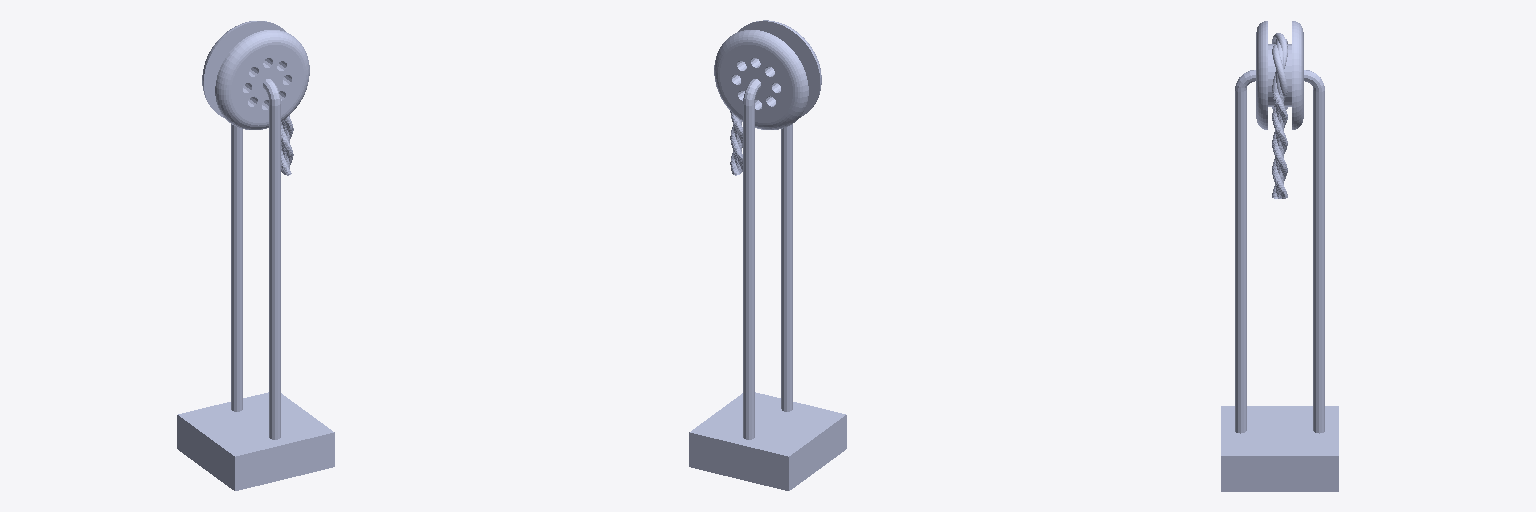
URDF robot description (solidworks2ros_try15):
<?xml version="1.0" encoding="utf-8"?>
<!-- This URDF was automatically created by SolidWorks to URDF Exporter! Originally created by [author] ([email redacted]) 
     Commit Version: 1.6.0-4-g7f85cfe  Build Version: 1.6.7995.38578
     For more information, please see http://wiki.ros.org/sw_urdf_exporter -->
<robot name="solidworks2ros_try15">

  <link name="dummy"> 
  </link>

  <joint name="dummy_joint" type="fixed">
     <parent link="dummy"/>
     <child link="base_link"/>
  </joint>

  <link name="base_link">
    <inertial>
      <origin
        xyz="7.6537E-18 1.5448E-17 0.17209"
        rpy="0 0 0" />
      <mass
        value="21.571" />
      <inertia
        ixx="2.2692"
        ixy="-3.3662E-17"
        ixz="4.5516E-17"
        iyy="2.2218"
        iyz="-3.4003E-16"
        izz="0.49397" />
    </inertial>
    <visual>
      <origin
        xyz="0 0 0"
        rpy="0 0 0" />
      <geometry>
        <mesh
          filename="package://solidworks2ros_try15/meshes/base_link.STL" />
      </geometry>
      <material
        name="">
        <color
          rgba="0.79216 0.81961 0.93333 1" />
      </material>
    </visual>
    <collision>
      <origin
        xyz="0 0 0"
        rpy="0 0 0" />
      <geometry>
        <mesh
          filename="package://solidworks2ros_try15/meshes/base_link.STL" />
      </geometry>
    </collision>
  </link>

  <link name="link_1">
    <inertial>
      <origin
        xyz="-0.0017596 2.8589E-08 0.0017597"
        rpy="0 0 0" />
      <mass
        value="8.4177" />
      <inertia
        ixx="0.076973"
        ixy="-3.4016E-06"
        ixz="-0.0012255"
        iyy="0.11232"
        iyz="-3.3985E-06"
        izz="0.076973" />
    </inertial>
    <visual>
      <origin
        xyz="0 0 0"
        rpy="0 0 0" />
      <geometry>
        <mesh
          filename="package://solidworks2ros_try15/meshes/link_1.STL" />
      </geometry>
      <material
        name="">
        <color
          rgba="0.79216 0.81961 0.93333 1" />
      </material>
    </visual>
    <collision>
      <origin
        xyz="0 0 0"
        rpy="0 0 0" />
      <geometry>
        <mesh
          filename="package://solidworks2ros_try15/meshes/link_1.STL" />
      </geometry>
    </collision>
  </link>

  <joint name="joint_1"
    type="revolute">
    <origin
      xyz="0 0 1.397"
      rpy="0 0 0" />
    <parent
      link="base_link" />
    <child
      link="link_1" />
    <axis
      xyz="0 1 0" />
    <limit
      lower="0"
      upper="50"
      effort="100"
      velocity="0.1" />
  </joint>

  <link name="link_2">
    <inertial>
      <origin
        xyz="1.3878E-17 -3.0921E-17 -0.19049"
        rpy="0 0 0" />
      <mass
        value="0.42802" />
      <inertia
        ixx="0.0052275"
        ixy="1.0603E-08"
        ixz="1.7867E-18"
        iyy="0.0052275"
        iyz="-8.7102E-19"
        izz="9.7461E-05" />
    </inertial>
    <visual>
      <origin
        xyz="0 0 0"
        rpy="0 0 0" />
      <geometry>
        <mesh
          filename="package://solidworks2ros_try15/meshes/link_2.STL" />
      </geometry>
      <material
        name="">
        <color
          rgba="0.79216 0.81961 0.93333 1" />
      </material>
    </visual>
    <collision>
      <origin
        xyz="0 0 0"
        rpy="0 0 0" />
      <geometry>
        <mesh
          filename="package://solidworks2ros_try15/meshes/link_2.STL" />
      </geometry>
    </collision>
  </link>

  <joint name="joint_2"
    type="prismatic">
    <origin
      xyz="0.1143 0 1.397"
      rpy="0 0 0" />
    <parent
      link="base_link" />
    <child
      link="link_2" />
    <axis
      xyz="0 0 -1" />
    <limit
      lower="0"
      upper="2"
      effort="100"
      velocity="0.1" />
  </joint>

  <link name="link_3">
    <inertial>
      <origin
        xyz="1.3878E-17 -3.0921E-17 -0.19049"
        rpy="0 0 0" />
      <mass
        value="0.42802" />
      <inertia
        ixx="0.0052275"
        ixy="1.0603E-08"
        ixz="1.7867E-18"
        iyy="0.0052275"
        iyz="-8.7102E-19"
        izz="9.7461E-05" />
    </inertial>
    <visual>
      <origin
        xyz="0 0 0"
        rpy="0 0 0" />
      <geometry>
        <mesh
          filename="package://solidworks2ros_try15/meshes/link_2.STL" />
      </geometry>
      <material
        name="">
        <color
          rgba="0.79216 0.81961 0.93333 1" />
      </material>
    </visual>
    <collision>
      <origin
        xyz="0 0 0"
        rpy="0 0 0" />
      <geometry>
        <mesh
          filename="package://solidworks2ros_try15/meshes/link_2.STL" />
      </geometry>
    </collision>
  </link>

  <joint name="joint_3"
    type="prismatic">
    <origin
      xyz="0 0 0"
      rpy="0 0 0" />
    <parent
      link="link_2" />
    <child
      link="link_3" />
    <axis
      xyz="0 0 -1" />
    <limit
      lower="0"
      upper="2"
      effort="100"
      velocity="0.1" />
  </joint>

    <link name="link_4">
    <inertial>
      <origin
        xyz="1.3878E-17 -3.0921E-17 -0.19049"
        rpy="0 0 0" />
      <mass
        value="0.42802" />
      <inertia
        ixx="0.0052275"
        ixy="1.0603E-08"
        ixz="1.7867E-18"
        iyy="0.0052275"
        iyz="-8.7102E-19"
        izz="9.7461E-05" />
    </inertial>
    <visual>
      <origin
        xyz="0 0 0"
        rpy="0 0 0" />
      <geometry>
        <mesh
          filename="package://solidworks2ros_try15/meshes/link_2.STL" />
      </geometry>
      <material
        name="">
        <color
          rgba="0.79216 0.81961 0.93333 1" />
      </material>
    </visual>
    <collision>
      <origin
        xyz="0 0 0"
        rpy="0 0 0" />
      <geometry>
        <mesh
          filename="package://solidworks2ros_try15/meshes/link_2.STL" />
      </geometry>
    </collision>
  </link>

  <joint name="joint_4"
    type="prismatic">
    <origin
      xyz="0 0 0"
      rpy="0 0 0" />
    <parent
      link="link_3" />
    <child
      link="link_4" />
    <axis
      xyz="0 0 -1" />
    <limit
      lower="0"
      upper="2"
      effort="100"
      velocity="0.1" />
  </joint>

  <!-- Gazebo position controller -->
  <transmission name ="trans_1">
    <type>transmission_interface/SimpleTransmission</type>
    <joint name="joint_1">
        <hardwareInterface>hardware_interface/PositionJointInterface</hardwareInterface>
    </joint>
    <actuator name="motor_1">
        <hardwareInterface>hardware_interface/PositionJointInterface</hardwareInterface>
        <mechanicalReduction>1</mechanicalReduction>
    </actuator>
  </transmission>

  <transmission name ="trans_2">
    <type>transmission_interface/SimpleTransmission</type>
    <joint name="joint_2">
        <hardwareInterface>hardware_interface/PositionJointInterface</hardwareInterface>
    </joint>
    <actuator name="motor_2">
        <hardwareInterface>hardware_interface/PositionJointInterface</hardwareInterface>
        <mechanicalReduction>1</mechanicalReduction>
    </actuator>
  </transmission>

  <transmission name ="trans_3">
    <type>transmission_interface/SimpleTransmission</type>
    <joint name="joint_3">
        <hardwareInterface>hardware_interface/PositionJointInterface</hardwareInterface>
    </joint>
    <actuator name="motor_3">
        <hardwareInterface>hardware_interface/PositionJointInterface</hardwareInterface>
        <mechanicalReduction>1</mechanicalReduction>
    </actuator>
  </transmission>

  <transmission name ="trans_4">
    <type>transmission_interface/SimpleTransmission</type>
    <joint name="joint_4">
        <hardwareInterface>hardware_interface/PositionJointInterface</hardwareInterface>
    </joint>
    <actuator name="motor_4">
        <hardwareInterface>hardware_interface/PositionJointInterface</hardwareInterface>
        <mechanicalReduction>1</mechanicalReduction>
    </actuator>
  </transmission>

  <!-- Gazebo plugin for controlling the rope -->
  <gazebo>
    <plugin name="ros_control" filename="libgazebo_ros_control.so">
    </plugin>
  </gazebo>

</robot>

--- Facts derived from the render (not from the file) ---
3 views of the same robot in one strip: view 1: azimuth 30°, elevation 25°; view 2: azimuth 150°, elevation 25°; view 3: azimuth 270°, elevation 25° (orthographic).
Robot: solidworks2ros_try15 — 6 links, 5 joints (1 revolute, 3 prismatic, 1 fixed); root link dummy; default pose: all joints at 0.
Links seen in each view (by area): view 1: base_link, link_1, link_2; view 2: base_link, link_1, link_2; view 3: base_link, link_1, link_2.
Link boxes in pixels (box(x1,y1,x2,y2)): base_link: box(177, 79, 334, 490); link_1: box(202, 21, 309, 129); link_2: box(281, 115, 293, 175); base_link: box(689, 79, 846, 490); link_1: box(714, 20, 821, 129); link_2: box(730, 111, 742, 175); base_link: box(1221, 70, 1338, 491); link_1: box(1256, 21, 1303, 129); link_2: box(1272, 91, 1287, 198).
Size in the robot's own frame: 0.381 by 0.381 by 1.57 metres.
Meshes: 3 distinct files referenced, 5 mesh visuals loaded (3 binary STL).
